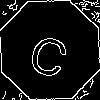C: (25, 25, 75, 80)
